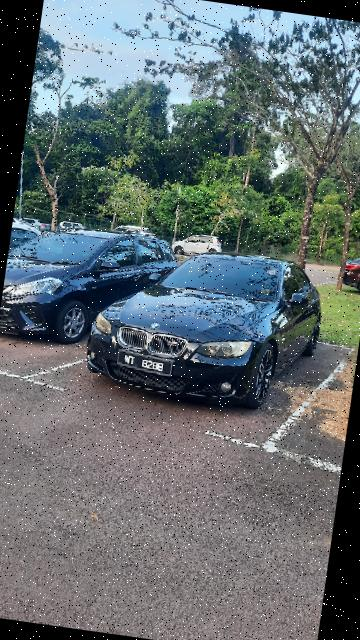License_Plate: (111, 347, 178, 382)
car: (77, 230, 332, 423), (1, 218, 184, 355)
